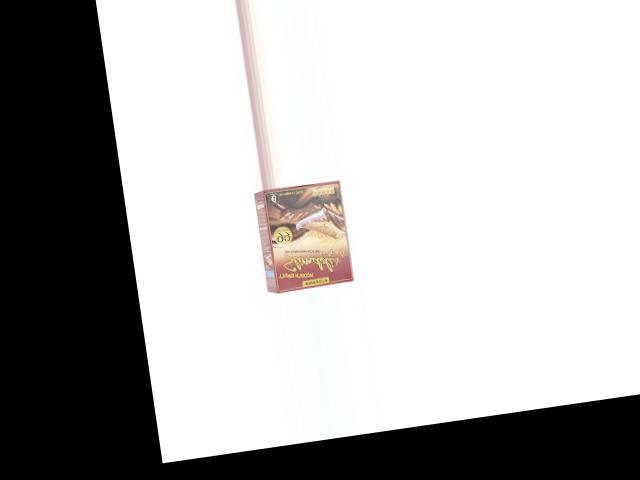chocolate: (248, 177, 364, 297)
